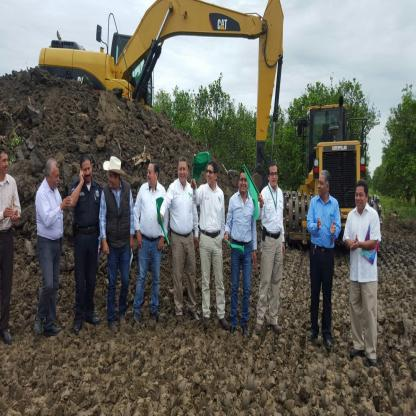person: (32, 141, 71, 337), (193, 150, 234, 333), (258, 159, 298, 346), (98, 146, 139, 327), (344, 178, 385, 358), (164, 144, 203, 330), (71, 140, 109, 330), (134, 142, 172, 326), (305, 162, 342, 350), (227, 163, 257, 341), (1, 133, 19, 354)
